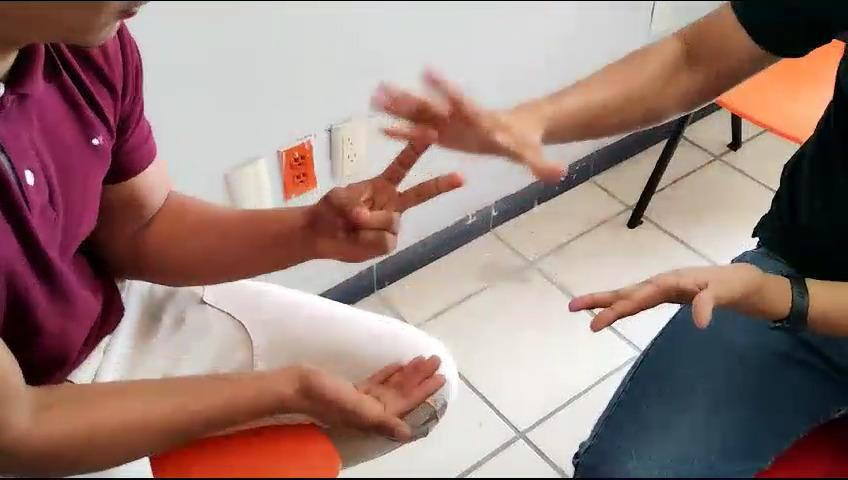Paper: (362, 48, 590, 196)
Scissor: (302, 127, 471, 267)
